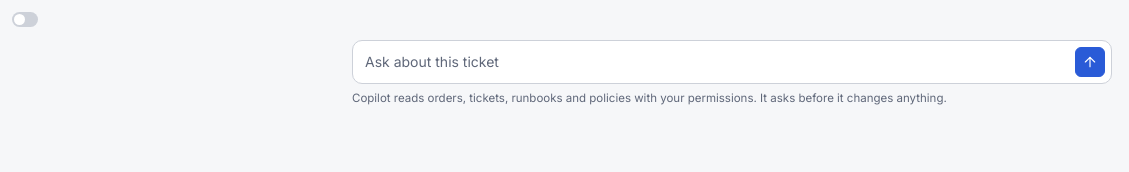
Scenario: sending that goes wrong › says it did not send when the failure has no words of its own
Type "Hello" into the text box named "Message" at (716, 62), box left=365, top=47, right=1067, bottom=77
Then press Enter
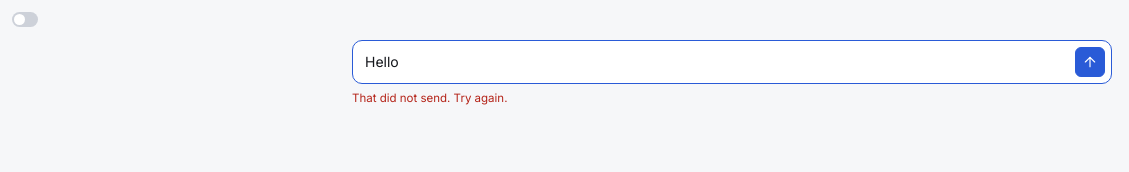
Result: the message reads "That did not send. Try again." at left=352, top=91, right=508, bottom=105
